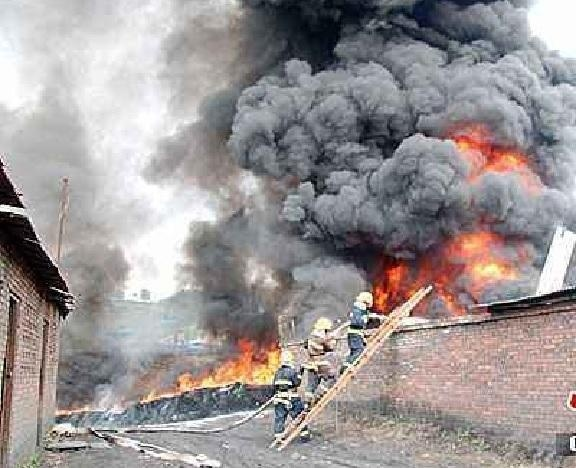fire: (370, 229, 521, 315), (135, 337, 281, 396)
